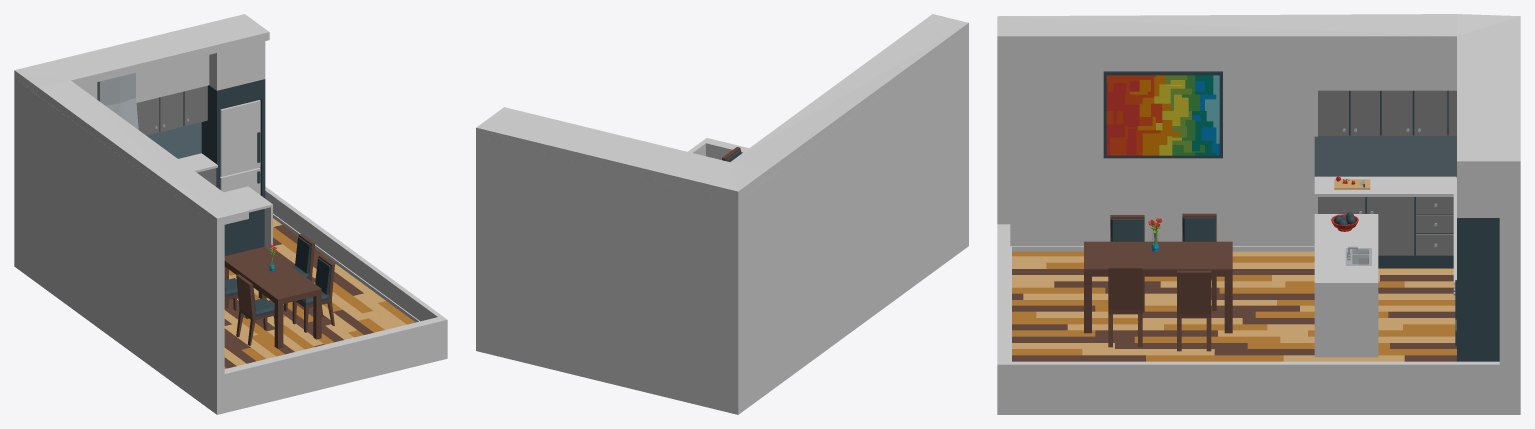
3 views of the same model, side by side, from view 1: azimuth 30°, elevation 25°; view 2: azimuth 150°, elevation 25°; view 3: azimuth 270°, elevation 25° (orthographic). The views are drawn at different scales.
Visible parts, largest first — view 1: node_MeshObject-1078853760-PolyPaper12, node_MeshObject1627648128-PolyPaper21; view 2: node_MeshObject-1078853760-PolyPaper12; view 3: node_MeshObject-1078853760-PolyPaper12, node_MeshObject1627648128-PolyPaper21.
Part boxes in pixels (<box>): node_MeshObject-1078853760-PolyPaper12: <box>14,14,447,414</box>; node_MeshObject1627648128-PolyPaper21: <box>178,79,415,368</box>; node_MeshObject-1078853760-PolyPaper12: <box>476,14,968,414</box>; node_MeshObject-1078853760-PolyPaper12: <box>997,14,1520,414</box>; node_MeshObject1627648128-PolyPaper21: <box>1012,75,1499,361</box>.
Size of the model in its own units: 2.11 by 1.72 by 3.2.
